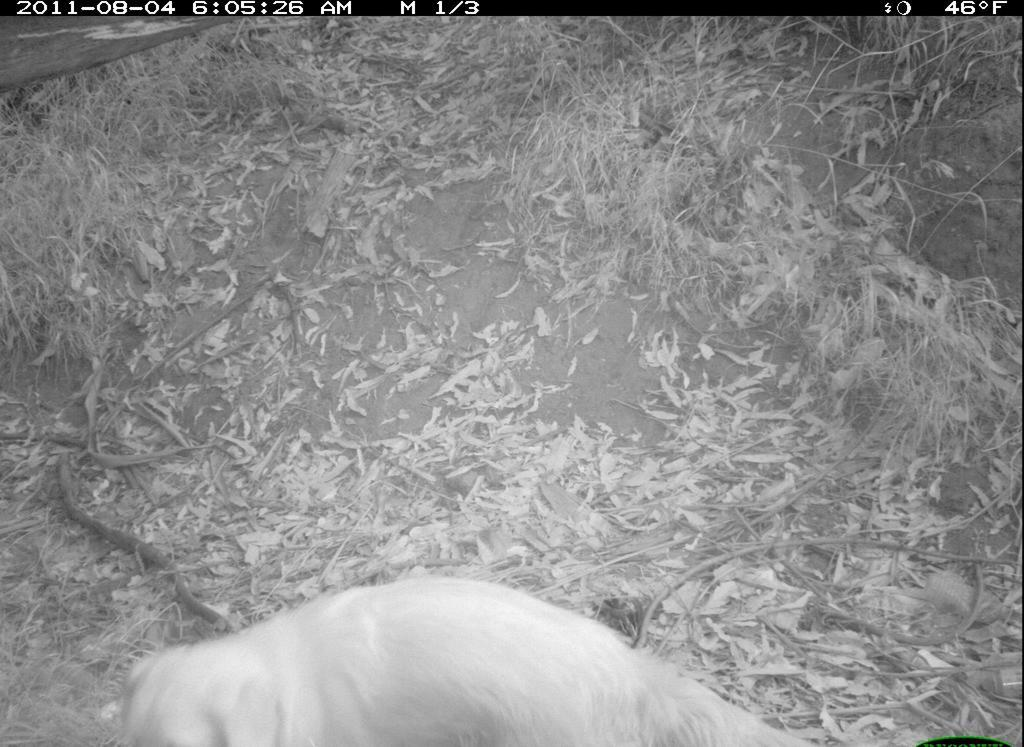dog: (113, 568, 829, 747)
